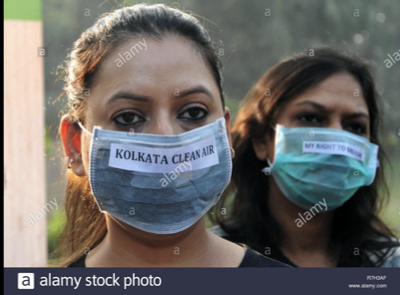with_mask: (81, 80, 232, 236), (269, 96, 377, 212)
